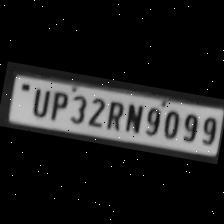0: (158, 104, 183, 139)
2: (84, 92, 107, 128)
3: (65, 89, 88, 124)
9: (196, 110, 220, 146), (177, 107, 201, 142), (140, 102, 163, 136)
N: (122, 98, 146, 134)
P: (45, 86, 70, 121)
R: (101, 96, 125, 130)
U: (26, 82, 52, 118)
